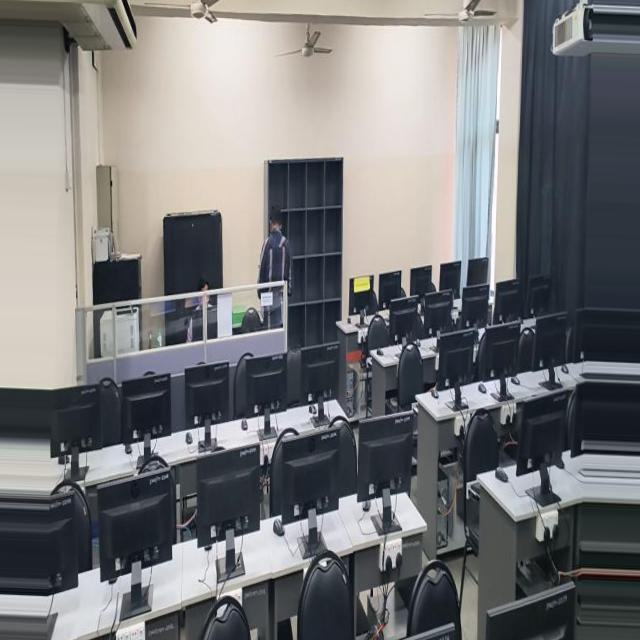Ac: (0, 0, 94, 97), (9, 0, 36, 20)
Chair: (300, 517, 370, 639), (432, 521, 499, 636), (175, 559, 249, 639), (3, 465, 54, 545), (495, 391, 536, 456), (263, 414, 297, 490), (414, 337, 445, 393), (56, 377, 85, 436), (219, 351, 240, 407), (376, 312, 402, 349), (507, 322, 525, 366), (558, 319, 577, 358), (106, 440, 142, 459), (226, 311, 252, 334)
Monitor: (524, 537, 632, 639), (58, 452, 151, 552), (371, 577, 489, 639), (176, 430, 254, 521), (368, 396, 435, 494), (276, 412, 348, 497), (557, 372, 619, 446), (0, 385, 62, 449), (160, 360, 213, 434), (84, 371, 145, 433), (0, 478, 37, 566), (231, 350, 283, 405), (506, 314, 560, 366), (460, 322, 505, 379), (575, 305, 615, 360), (402, 298, 437, 338), (487, 283, 521, 322), (444, 290, 478, 329), (526, 278, 557, 317), (389, 274, 422, 309), (355, 280, 388, 314), (265, 620, 324, 639), (568, 273, 595, 309), (626, 363, 640, 427), (426, 268, 453, 297), (462, 265, 487, 296), (494, 260, 521, 286)
Mouse: (269, 492, 283, 507), (534, 440, 548, 453), (453, 373, 464, 383), (550, 360, 560, 368), (228, 407, 236, 416), (163, 424, 170, 431)
Projector: (590, 0, 640, 84)
